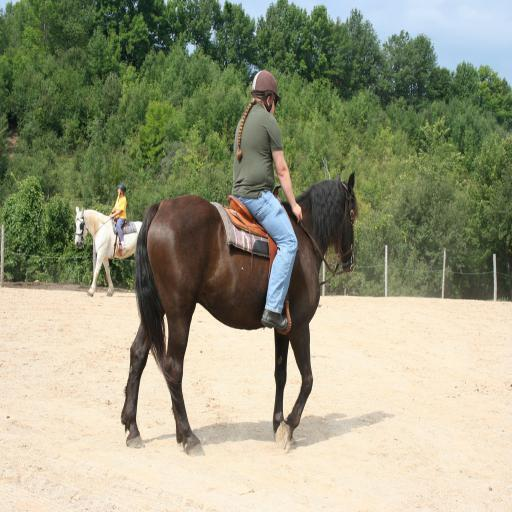horse: (120, 170, 360, 451), (72, 204, 142, 300)
